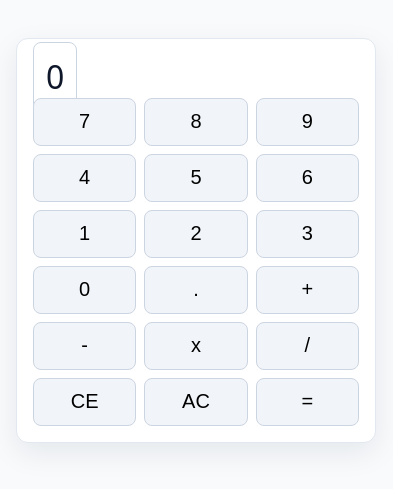
Test case: App number entry behavior › recovers from error state with fresh valid input
Click the button "5" at (196, 178), box 144,154 -> 248,202
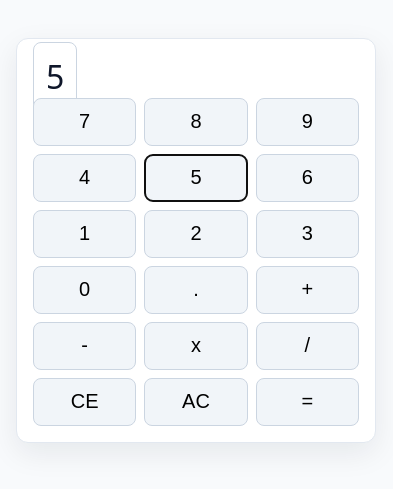
Click the button "/" at (307, 346), box 256,322 -> 359,370
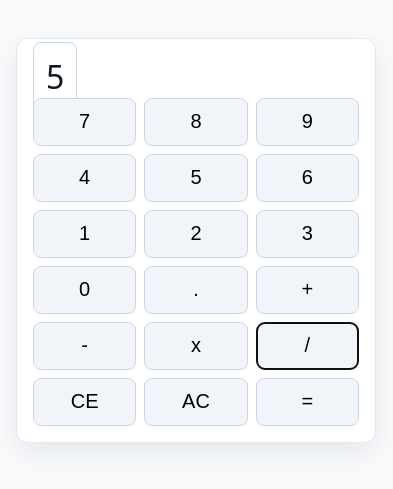
Click the button "0" at (85, 290), box 33,266 -> 136,314
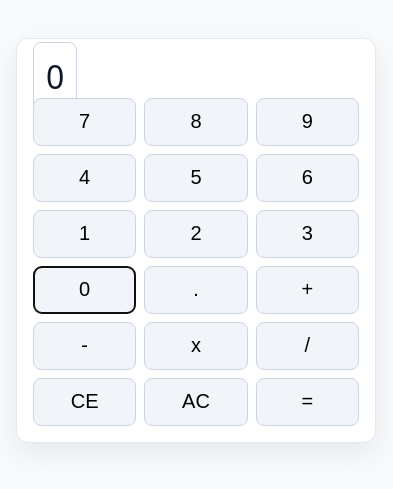
Click the button "=" at (307, 402), box 256,378 -> 359,426
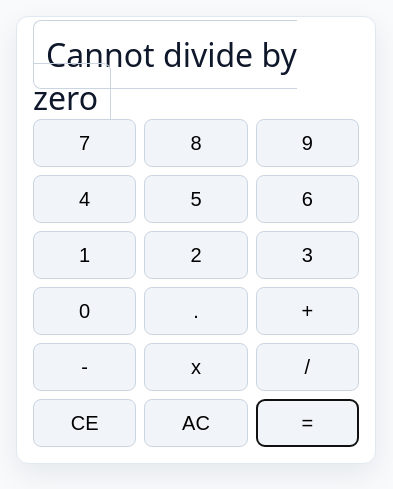
Click the button "7" at (85, 143), box 33,119 -> 136,167
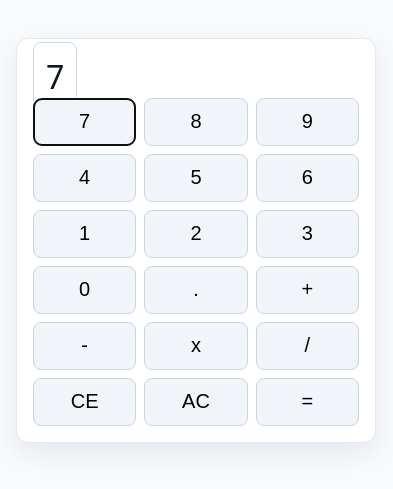
Now the text named "Display" reads "7", box 46,54 -> 64,98
